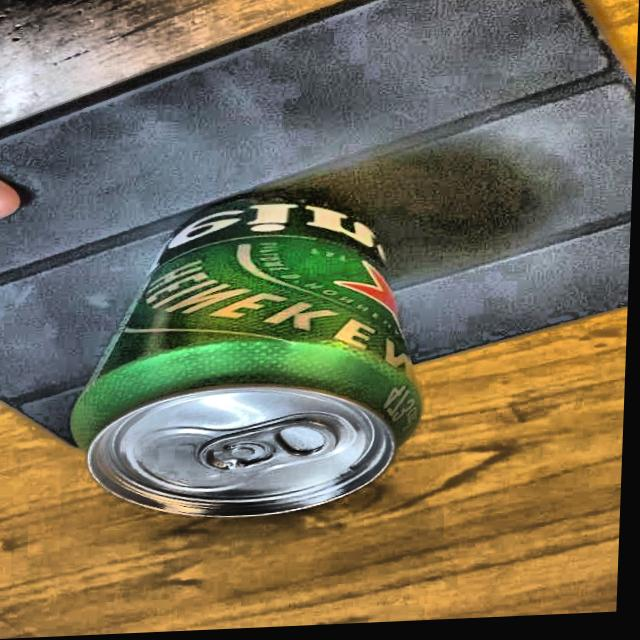can: (64, 173, 442, 532)
